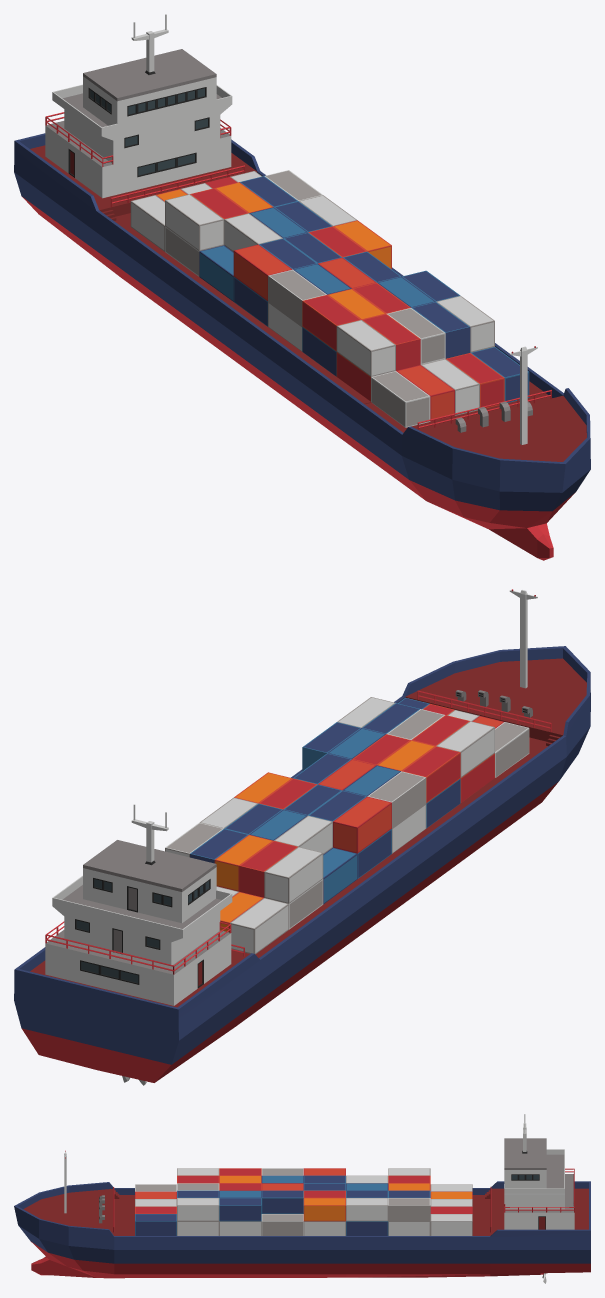
File: vehicles_ship-cargo.fbx
3 views of the same model, one above another, from view 1: azimuth 30°, elevation 25°; view 2: azimuth 150°, elevation 25°; view 3: azimuth 270°, elevation 25° (orthographic). The views are drawn at different scales.
Visible parts, largest first — view 1: ship_cargo, ship_cargos; view 2: ship_cargo, ship_cargos; view 3: ship_cargo, ship_cargos.
Part boxes in pixels (<box>): ship_cargo: <box>14,14,590,560</box>; ship_cargos: <box>130,170,529,427</box>; ship_cargo: <box>14,589,590,1085</box>; ship_cargos: <box>165,697,529,954</box>; ship_cargo: <box>14,1114,590,1283</box>; ship_cargos: <box>135,1168,472,1235</box>.
Size of the model in its own units: 40.61 by 62.05 by 200.
